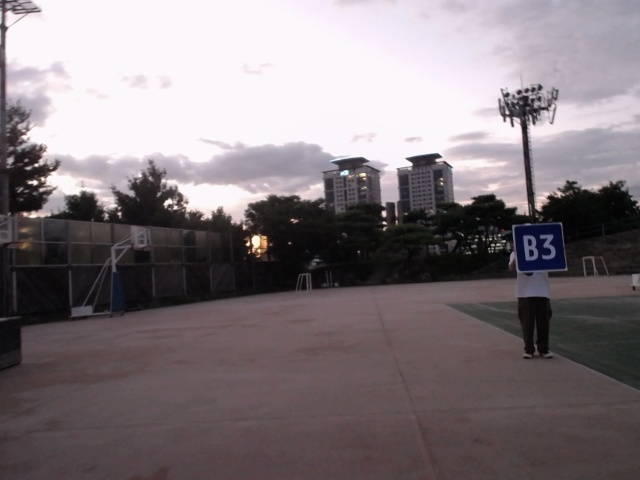delivery_b3: (512, 223, 569, 273)
